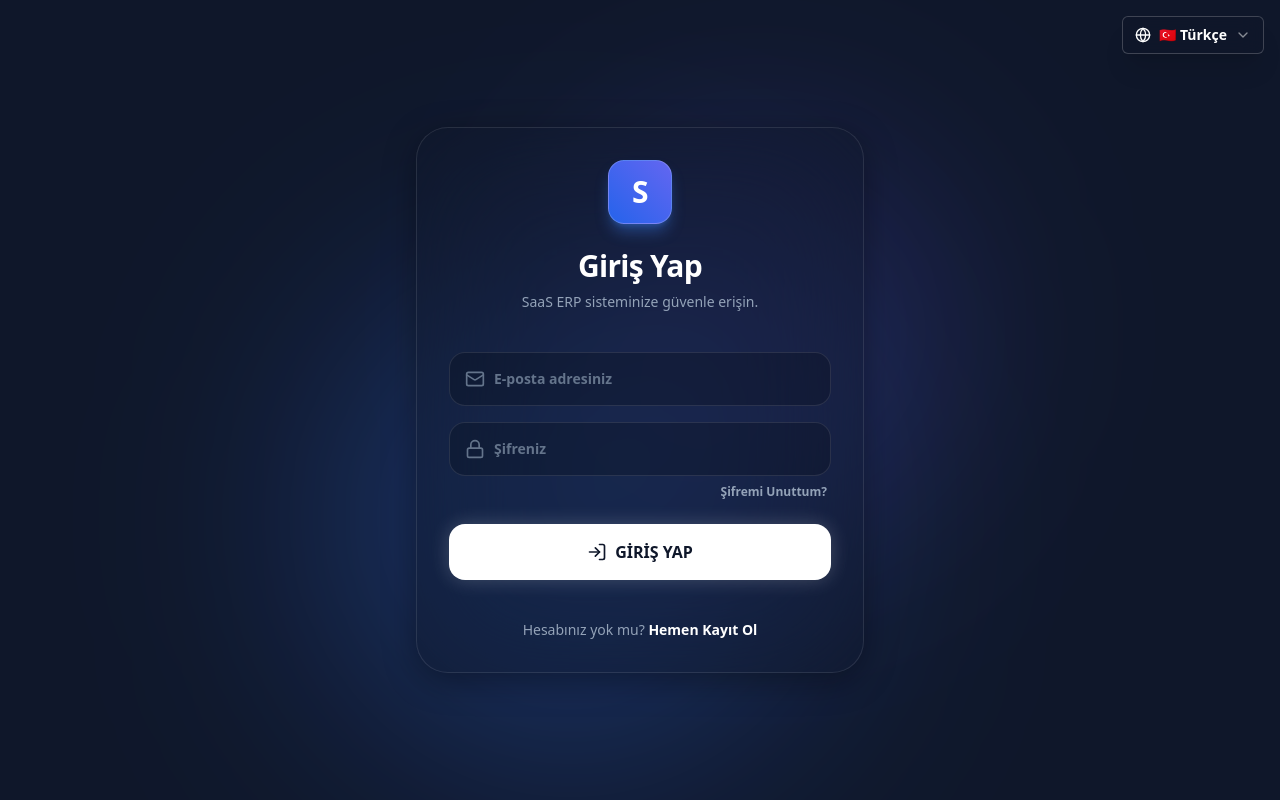
Scenario: Login Page — Happy Path › LG-HP-05: form gönderilirken loading spinner gösterilir ve buton disabled olur
Type "test@example.com" into the field with placeholder "E-posta adresiniz".
click(640, 379); type("test@example.com")  # box [449,352,831,406]
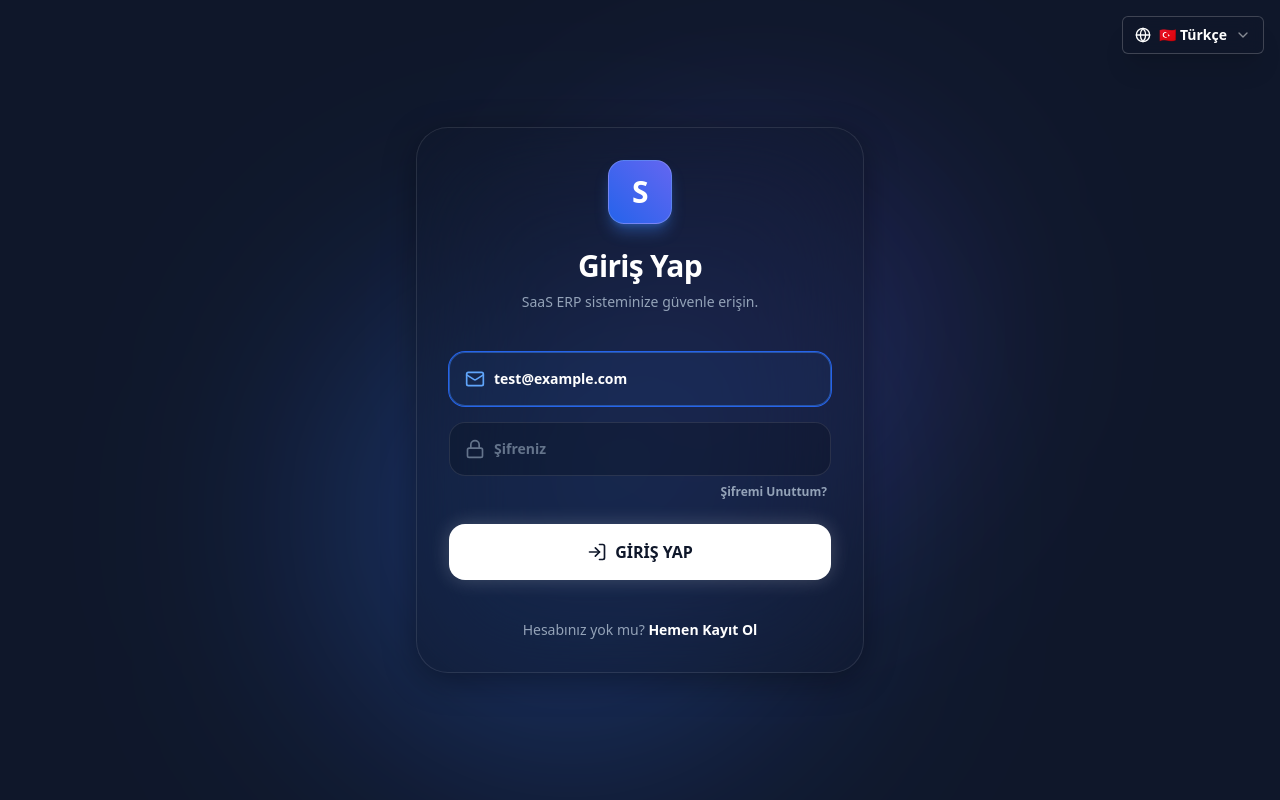
Type "password123" into the password field with placeholder "Şifreniz".
click(640, 449); type("password123")  # box [449,422,831,476]
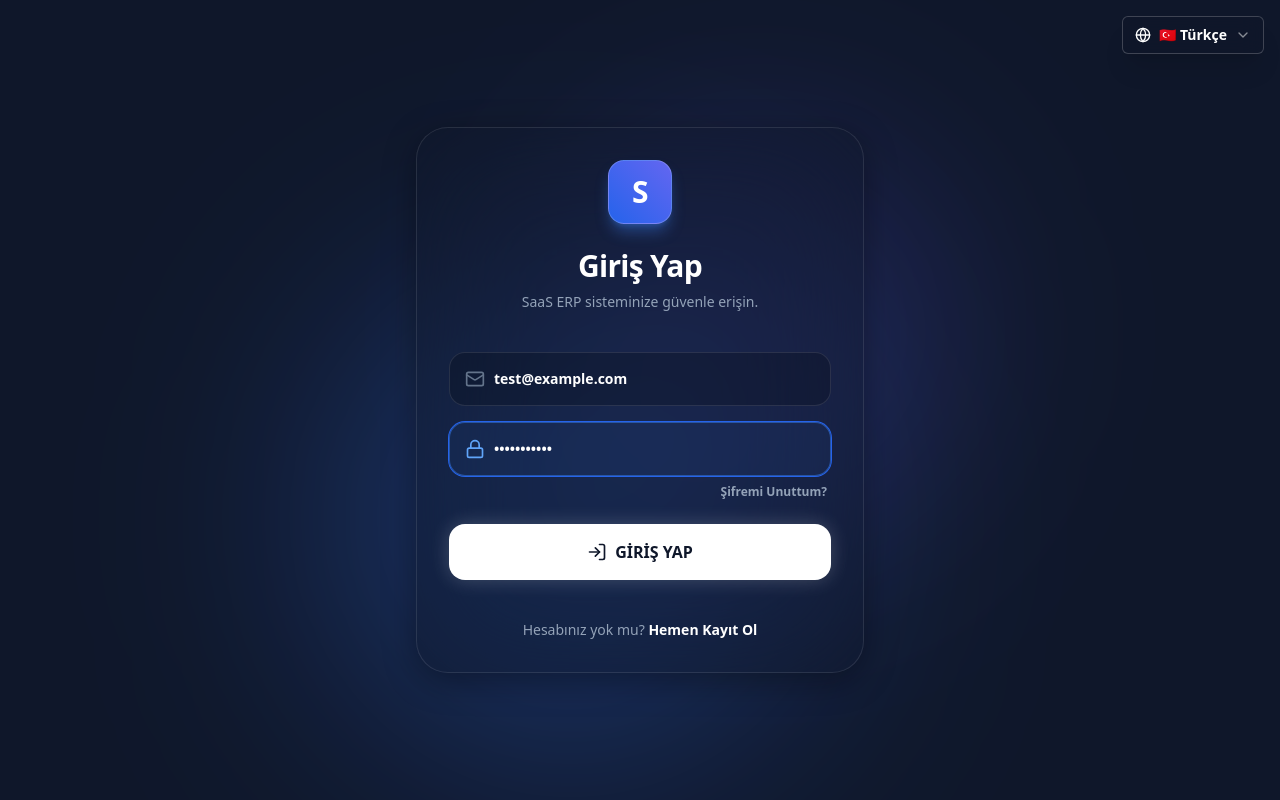
Click the button "GİRİŞ YAP".
click(640, 552)  # box [449,524,831,580]
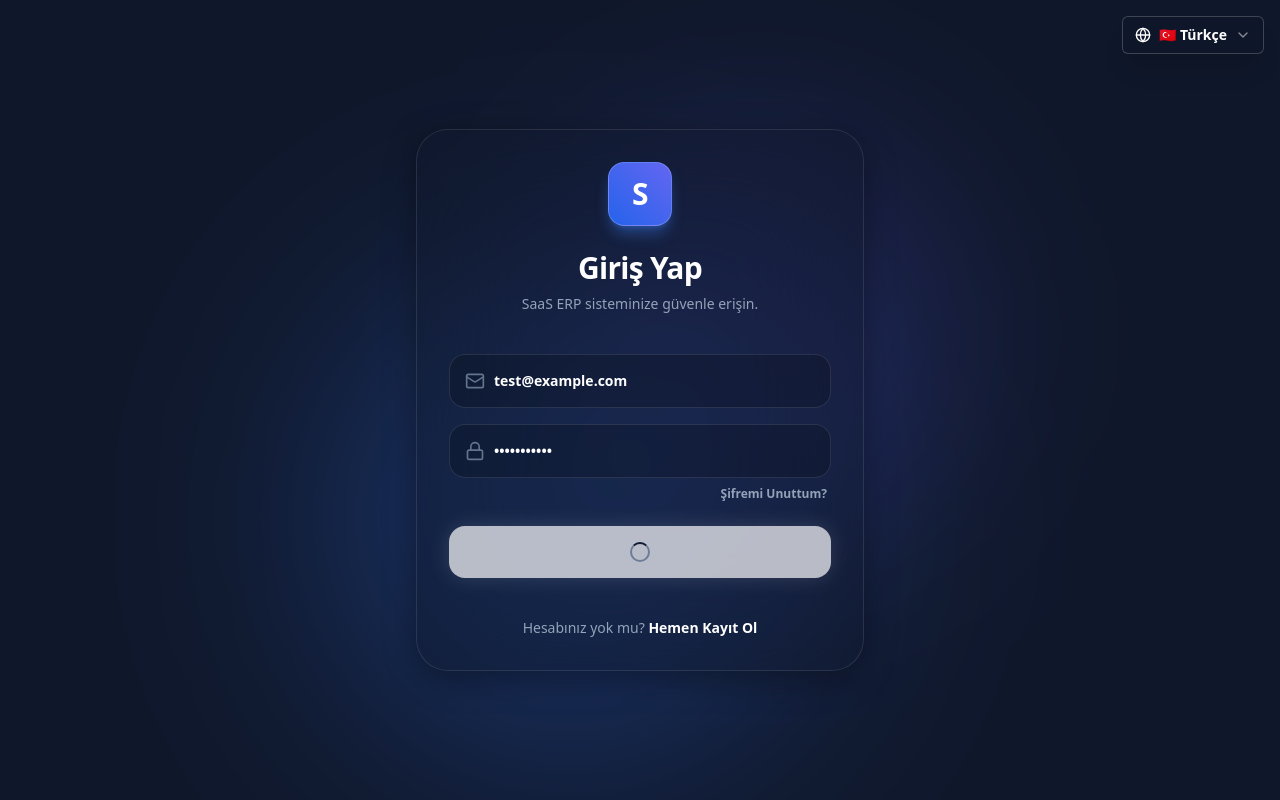
Expected: the 2nd button is disabled, [449,526,831,578]
